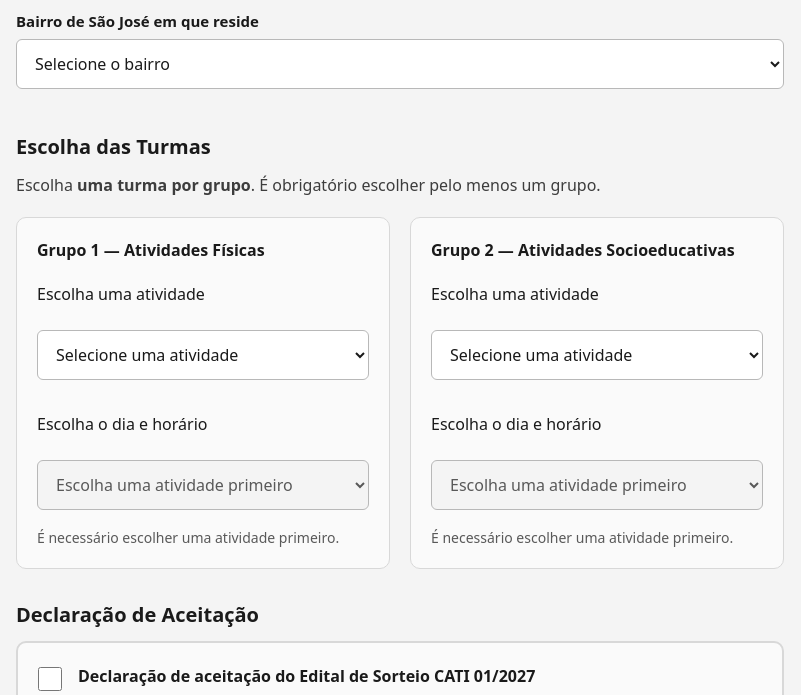
Test: RegisterPage — seleção dinâmica de atividade e turma › Grupo 1: selecionar Dança de Salão mostra somente turmas de Dança de Salão
(page scrolled)
Step 1. Select "Dança de Salão" in the dropdown labelled "Grupo 1 — Atividades Físicas Escolha uma atividade" → (203, 354), box [37,330,369,380]
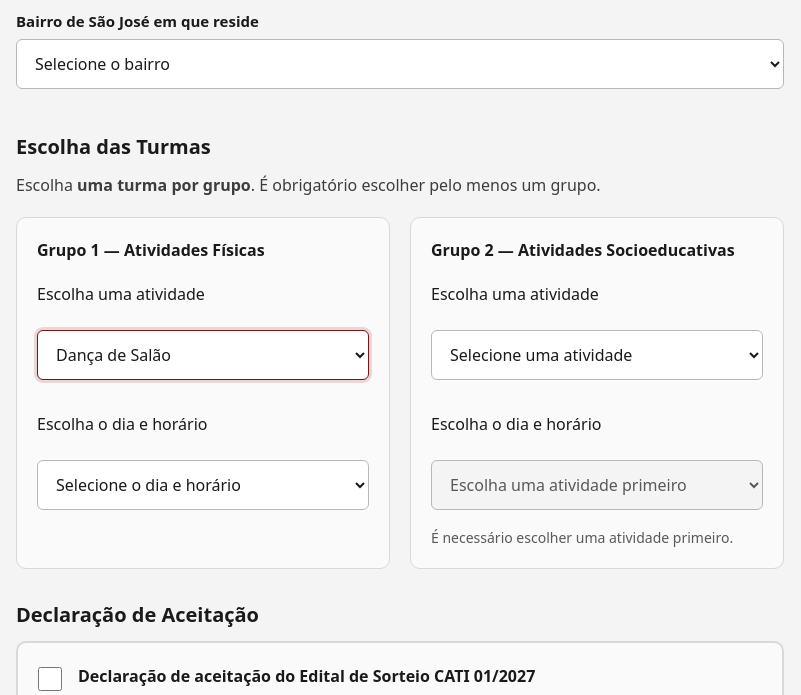
Now the dropdown labelled "Grupo 1 — Atividades Físicas Escolha o dia e horário" is enabled, box [37,460,369,510]
